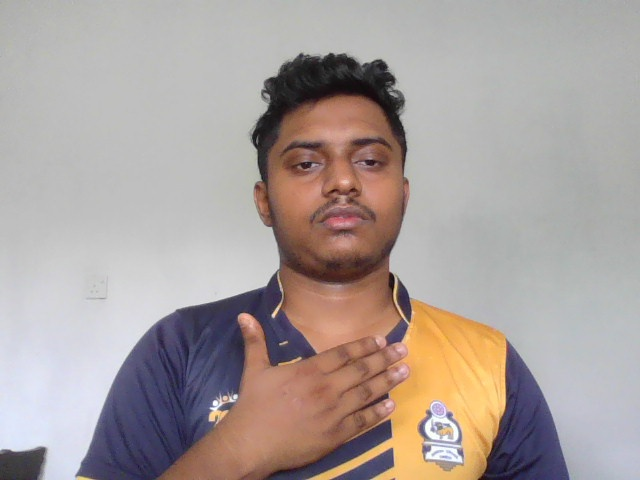Please: (226, 307, 415, 470)
